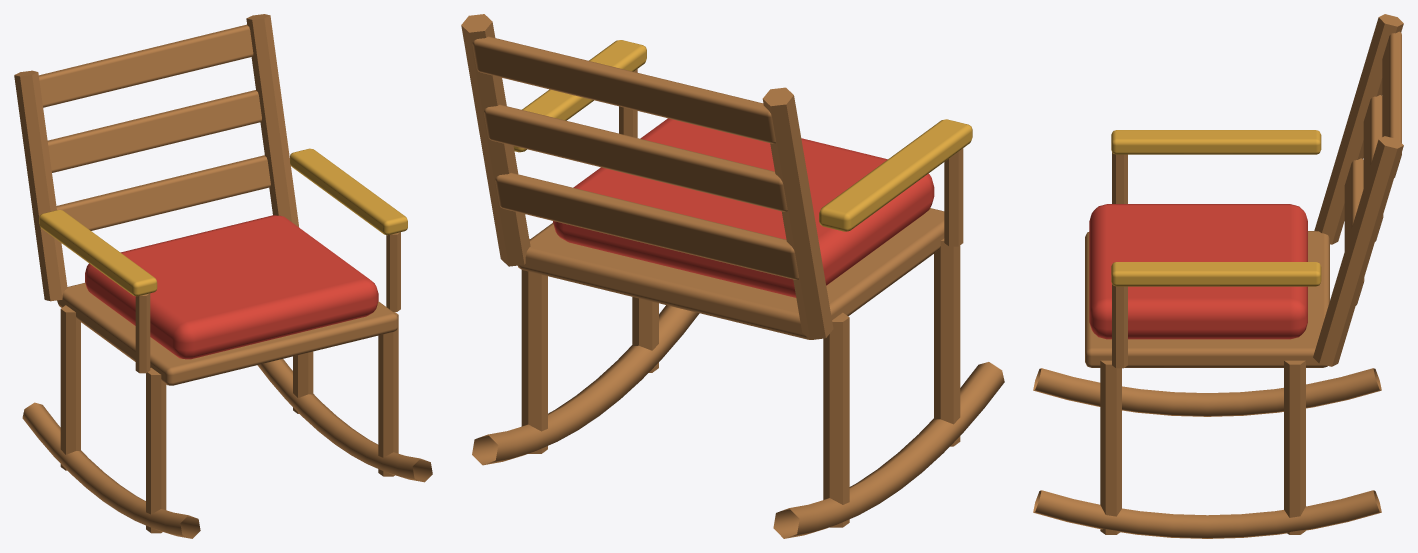
The model's file is porch_chair.glb.
The picture shows the model from 3 angles, left to right: view 1: azimuth 30°, elevation 25°; view 2: azimuth 150°, elevation 25°; view 3: azimuth 270°, elevation 25°; orthographic projection. The views are drawn at different scales.
Parts seen in each view (by area): view 1: porch_chair_body; view 2: porch_chair_body; view 3: porch_chair_body.
Part boxes in pixels (x1,y1,x2,y2): porch_chair_body: (14, 14, 432, 538); porch_chair_body: (461, 14, 1004, 538); porch_chair_body: (1033, 14, 1403, 538).
Size of the model in its own units: 0.7828 by 1.01 by 0.8475.
